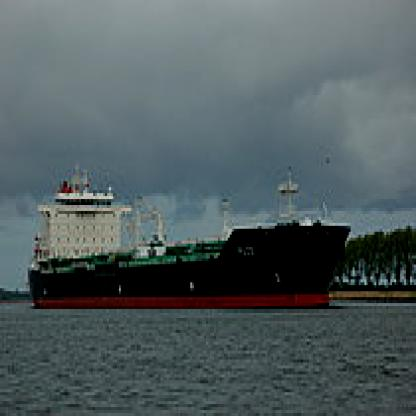Tanker: (28, 172, 335, 297)
